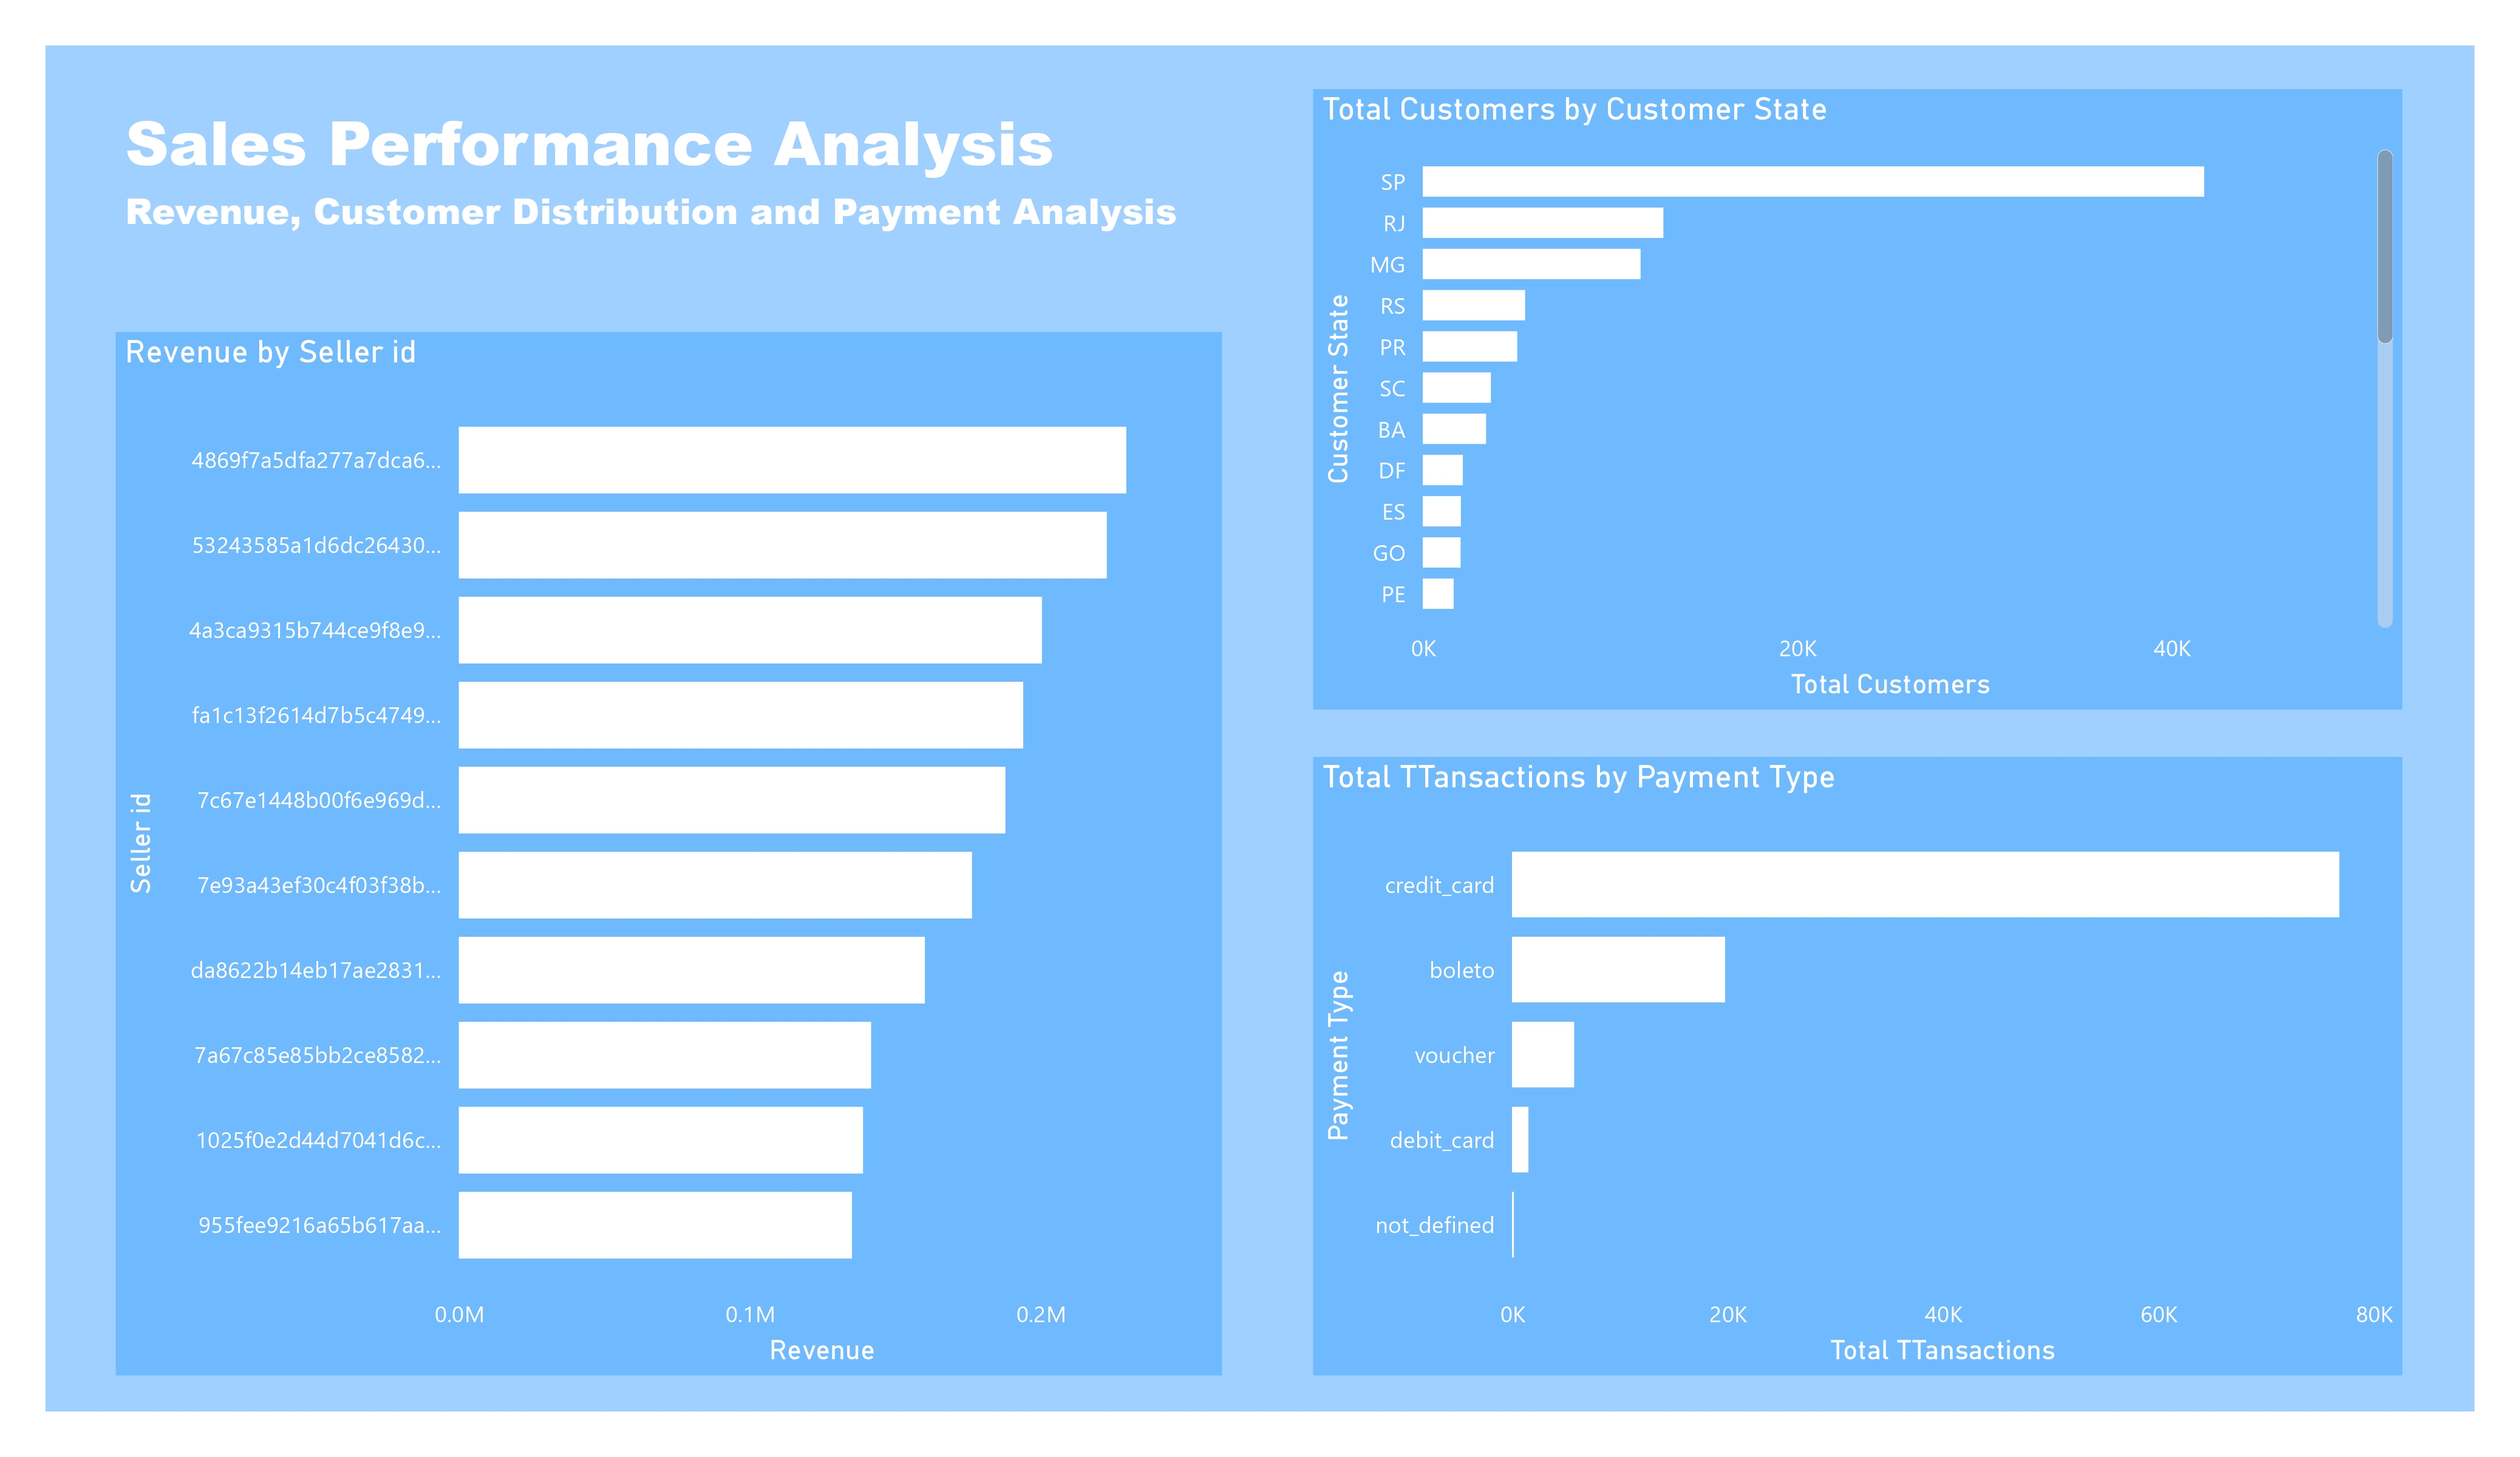

This screenshot's page, from the dashboard's own definition file:
{"tool":"powerbi","page":{"name":"Page 2","canvas":[1280,720],"ordinal":1},"visuals":[{"type":"barChart","fields":{"Y":["Sum(Top 10 Sellers.revenue)"],"Category":["Top 10 Sellers.seller_id"]},"box":[37,150.9,583.2,550.3],"z":0},{"type":"barChart","fields":{"Category":["Customer Distribution by State.customer_state"],"Y":["Sum(Customer Distribution by State.total_customers)"]},"box":[668.3,23.3,573.6,326.6],"z":1000},{"type":"barChart","fields":{"Category":["Payment Method Distribution.payment_type"],"Y":["Sum(Payment Method Distribution.total_transactions)"]},"box":[668.3,374.6,573.6,326.6],"z":2000},{"type":"textbox","box":[37,23.3,602.4,142.7],"z":3000}]}

Visuals, with their boxes in screenshot pixels (x1, y1, x2, y2):
barChart - Sum(Top 10 Sellers.revenue) x Top 10 Sellers.seller_id: x1=42 y1=297 x2=1216 y2=1405
barChart - Customer Distribution by State.customer_state x Sum(Customer Distribution by State.total_customers): x1=1312 y1=40 x2=2467 y2=698
barChart - Payment Method Distribution.payment_type x Sum(Payment Method Distribution.total_transactions): x1=1312 y1=747 x2=2467 y2=1405
textbox: x1=42 y1=40 x2=1254 y2=327
